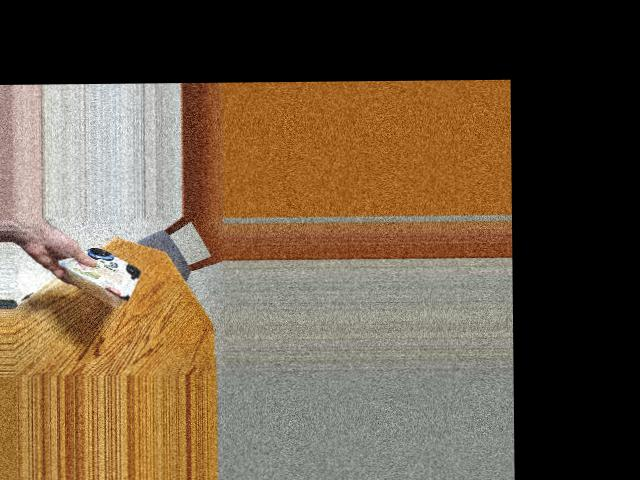cheese: (71, 237, 137, 314)
